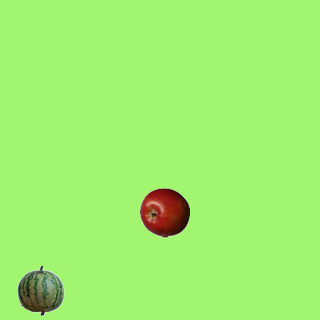Apple Braeburn: (139, 187, 189, 237)
Watermelon: (15, 265, 65, 315)
